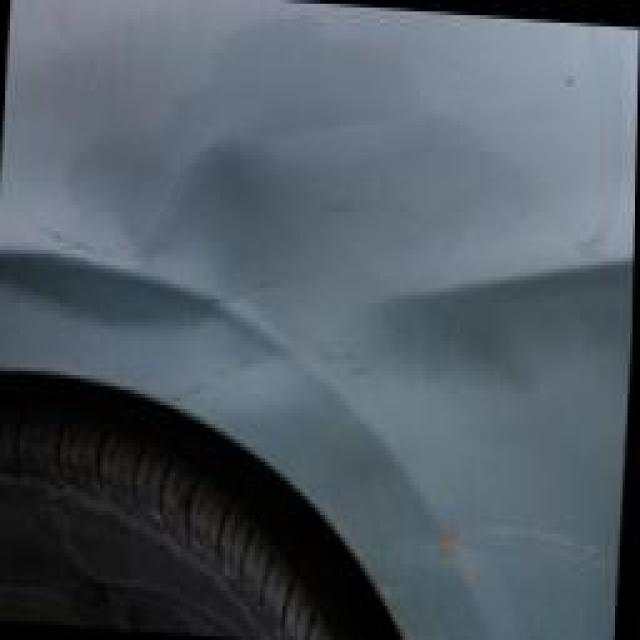Fender: (0, 4, 580, 492)
